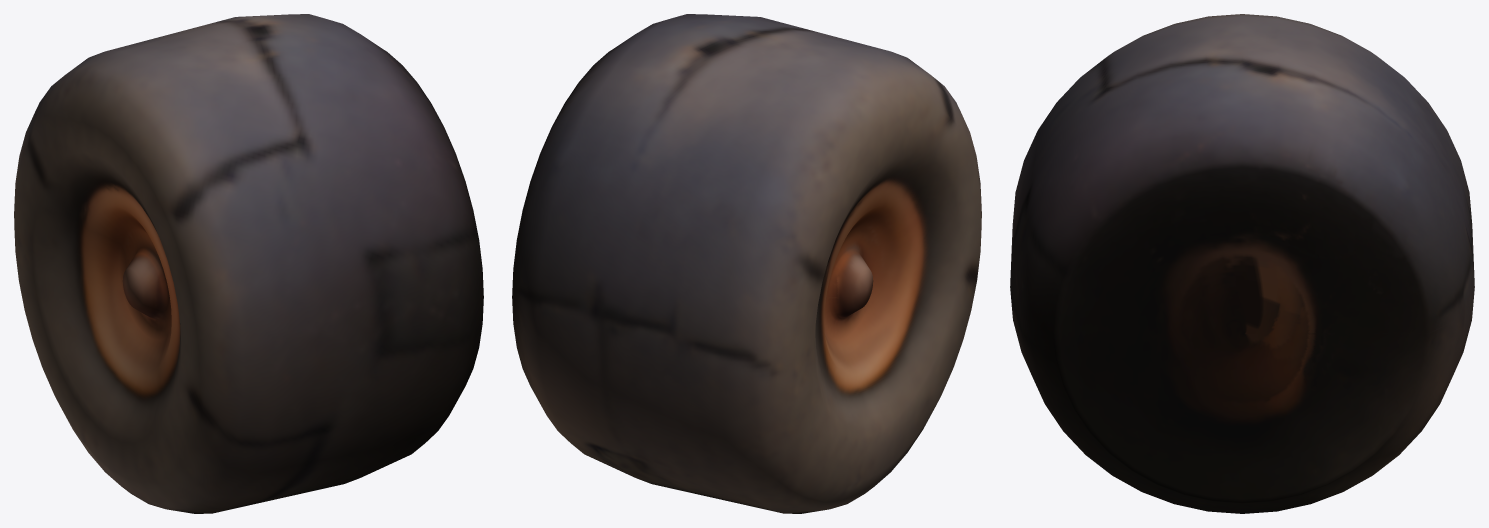
The picture shows the model from 3 angles, left to right: view 1: azimuth 30°, elevation 25°; view 2: azimuth 150°, elevation 25°; view 3: azimuth 270°, elevation 25°; orthographic projection. The views are drawn at different scales.
Parts seen in each view (by area): view 1: wheel_RR; view 2: wheel_RR; view 3: wheel_RR.
Boxes of the visible parts, <box> form: wheel_RR: <box>14,14,483,513</box>; wheel_RR: <box>512,14,981,513</box>; wheel_RR: <box>1010,14,1474,513</box>.
Size of the model in its own units: 0.2466 by 0.366 by 0.366.
Materials: 1 (1 with a texture image).
